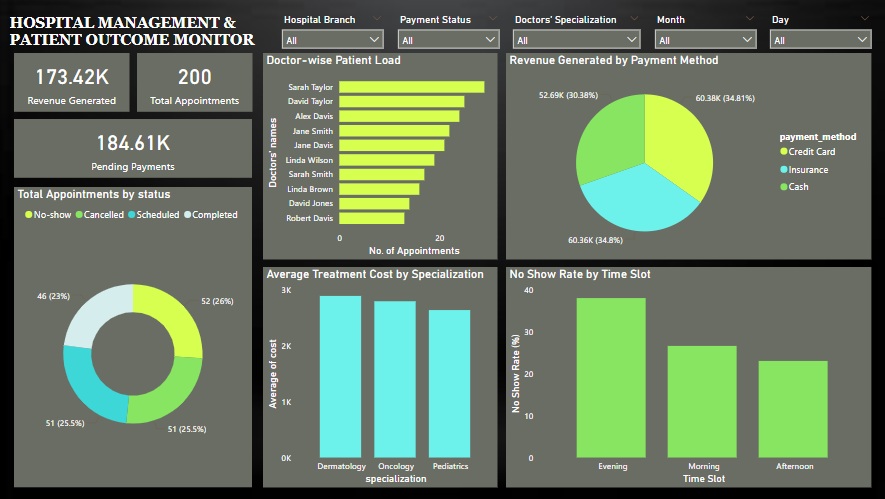

The dashboard page shown, as its layout file describes it:
{"tool":"powerbi","page":{"name":"Page 1","canvas":[1280,720],"ordinal":0},"visuals":[{"type":"textbox","box":[21.7,18.8,441,60.7],"z":0},{"type":"slicer","fields":{"Values":["doctors.hospital_branch"]},"box":[406.3,18.8,164.8,60.7],"z":1000},{"type":"slicer","fields":{"Values":["billing.payment_status"]},"box":[571.1,18.8,164.8,60.7],"z":2000},{"type":"slicer","fields":{"Values":["doctors.specialization"]},"box":[735.9,18.8,202.4,60.7],"z":3000},{"type":"slicer","fields":{"Values":["appointments.appointment_month"]},"box":[938.3,18.8,164.8,60.7],"z":4000},{"type":"slicer","fields":{"Values":["appointments.appointment_weekday"]},"box":[1103.1,18.8,164.8,60.7],"z":5000},{"type":"card","fields":{"Values":["billing.Revenue Generated"]},"box":[33.3,79.5,164.8,83.9],"z":6000},{"type":"card","fields":{"Values":["billing.Pending Payments"]},"box":[33.3,174.9,339.8,83.9],"z":7000},{"type":"card","fields":{"Values":["appointments.Total Appointments"]},"box":[208.2,79.5,164.8,83.9],"z":8000},{"type":"donutChart","fields":{"Category":["appointments.status"],"Y":["appointments.Total Appointments"]},"box":[33.3,271.8,339.8,429.4],"z":9000},{"type":"clusteredColumnChart","title":"Average Treatment Cost by Specialization","fields":{"Category":["doctors.specialization"],"Y":["treatments.cost"]},"box":[388.9,386,335.4,315.2],"z":10000},{"type":"clusteredBarChart","title":"Doctor-wise Patient Load","fields":{"Category":["doctors.full_name"],"Y":["appointments.appointment_id"]},"box":[388.9,79.5,335.4,294.9],"z":10001},{"type":"pieChart","title":"Revenue Generated by Payment Method","fields":{"Y":["billing.Revenue Generated"],"Category":["billing.payment_method"]},"box":[735.9,79.5,521.9,294.9],"z":10002},{"type":"lineClusteredColumnComboChart","title":"No Show Rate by Time Slot","fields":{"Category":["appointments.time_slot"],"Y":["appointments.No Show Rate (%)"]},"box":[735.9,386,521.9,315.2],"z":10003}]}

Visuals, with their boxes in screenshot pixels (x1, y1, x2, y2), scaled from the page's 1280x720 canvas onto the 885x499 screenshot:
textbox: {"left": 15, "top": 13, "right": 320, "bottom": 55}
slicer - doctors.hospital_branch: {"left": 281, "top": 13, "right": 395, "bottom": 55}
slicer - billing.payment_status: {"left": 395, "top": 13, "right": 509, "bottom": 55}
slicer - doctors.specialization: {"left": 509, "top": 13, "right": 649, "bottom": 55}
slicer - appointments.appointment_month: {"left": 649, "top": 13, "right": 763, "bottom": 55}
slicer - appointments.appointment_weekday: {"left": 763, "top": 13, "right": 877, "bottom": 55}
card - billing.Revenue Generated: {"left": 23, "top": 55, "right": 137, "bottom": 113}
card - billing.Pending Payments: {"left": 23, "top": 121, "right": 258, "bottom": 179}
card - appointments.Total Appointments: {"left": 144, "top": 55, "right": 258, "bottom": 113}
donutChart - appointments.status x appointments.Total Appointments: {"left": 23, "top": 188, "right": 258, "bottom": 486}
"Average Treatment Cost by Specialization" clusteredColumnChart: {"left": 269, "top": 268, "right": 501, "bottom": 486}
"Doctor-wise Patient Load" clusteredBarChart: {"left": 269, "top": 55, "right": 501, "bottom": 259}
"Revenue Generated by Payment Method" pieChart: {"left": 509, "top": 55, "right": 870, "bottom": 259}
"No Show Rate by Time Slot" lineClusteredColumnComboChart: {"left": 509, "top": 268, "right": 870, "bottom": 486}
